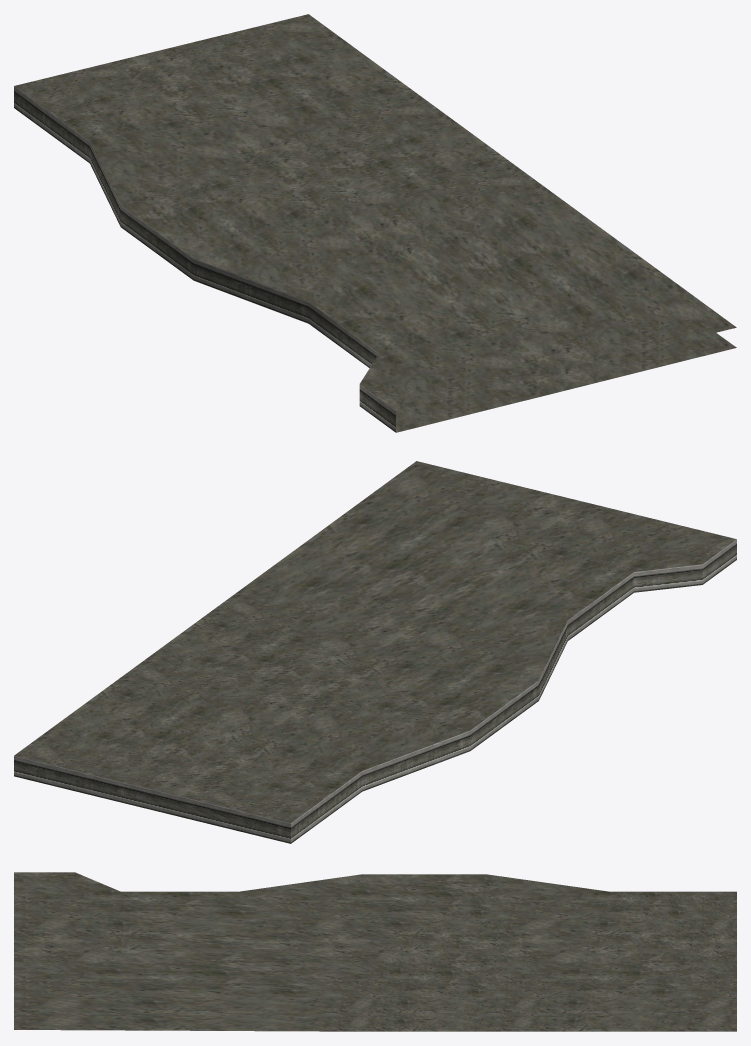
File: DWARF_PALACE_FORGE_UPPER_FLOOR02.fbx
3 renders of one model, top to bottom at view 1: azimuth 30°, elevation 25°; view 2: azimuth 150°, elevation 25°; view 3: azimuth 270°, elevation 25°, orthographic. The views are drawn at different scales.
Parts seen in each view (by area): view 1: DWARF_PALACE_FORGE_UPPER_FLOOR02; view 2: DWARF_PALACE_FORGE_UPPER_FLOOR02; view 3: DWARF_PALACE_FORGE_UPPER_FLOOR02.
Part boxes in pixels (x1,y1,x2,y2): DWARF_PALACE_FORGE_UPPER_FLOOR02: (14, 14, 736, 432); DWARF_PALACE_FORGE_UPPER_FLOOR02: (14, 461, 736, 843); DWARF_PALACE_FORGE_UPPER_FLOOR02: (14, 872, 736, 1031).
Size of the model in its own units: 81000 by 5000 by 176258.
2 materials, 2 textured.
